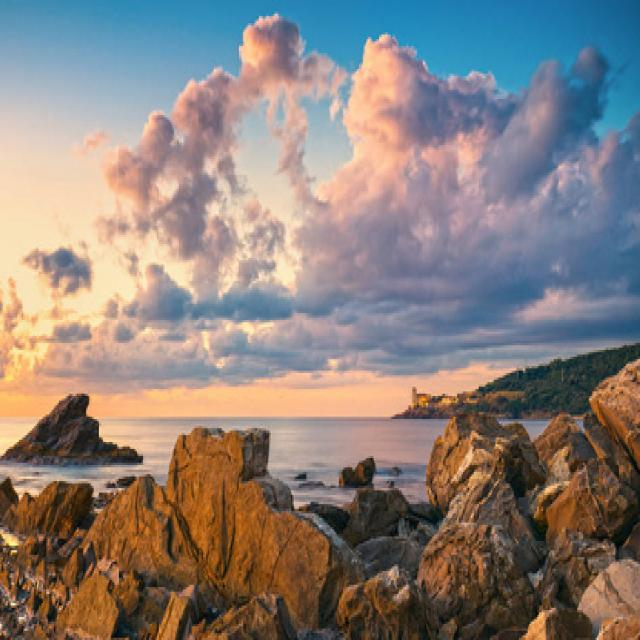island: (403, 329, 640, 424)
